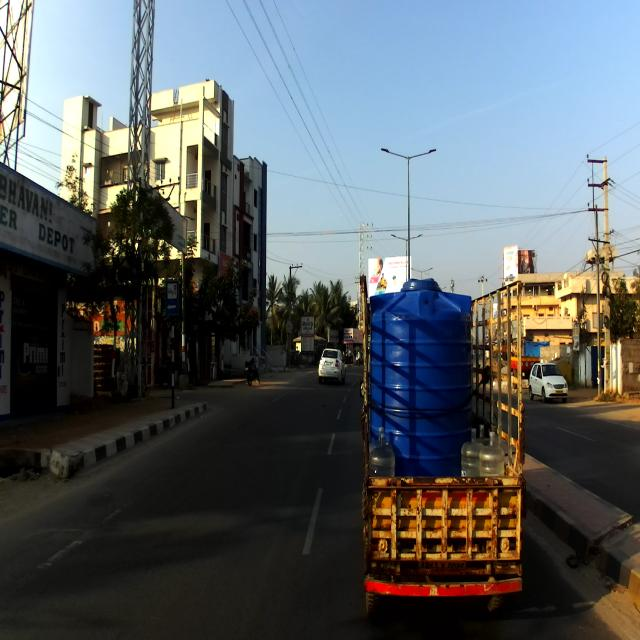truck ahead at: (348, 273, 528, 606)
